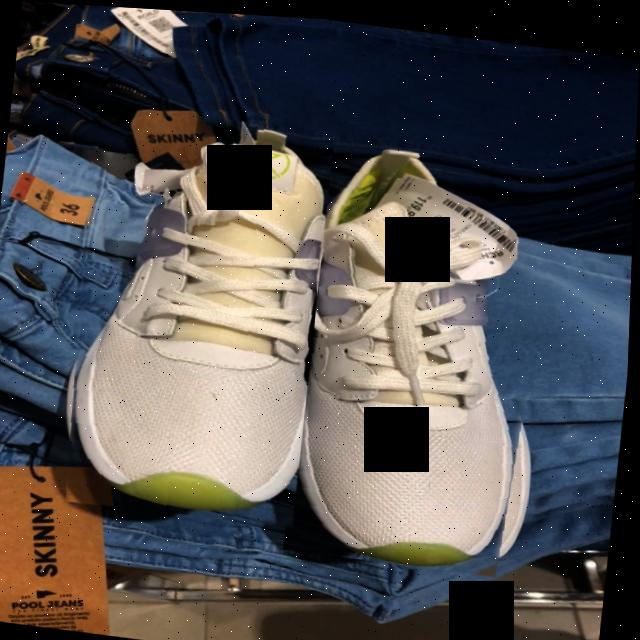shoe: (74, 109, 327, 512), (298, 145, 522, 563)
